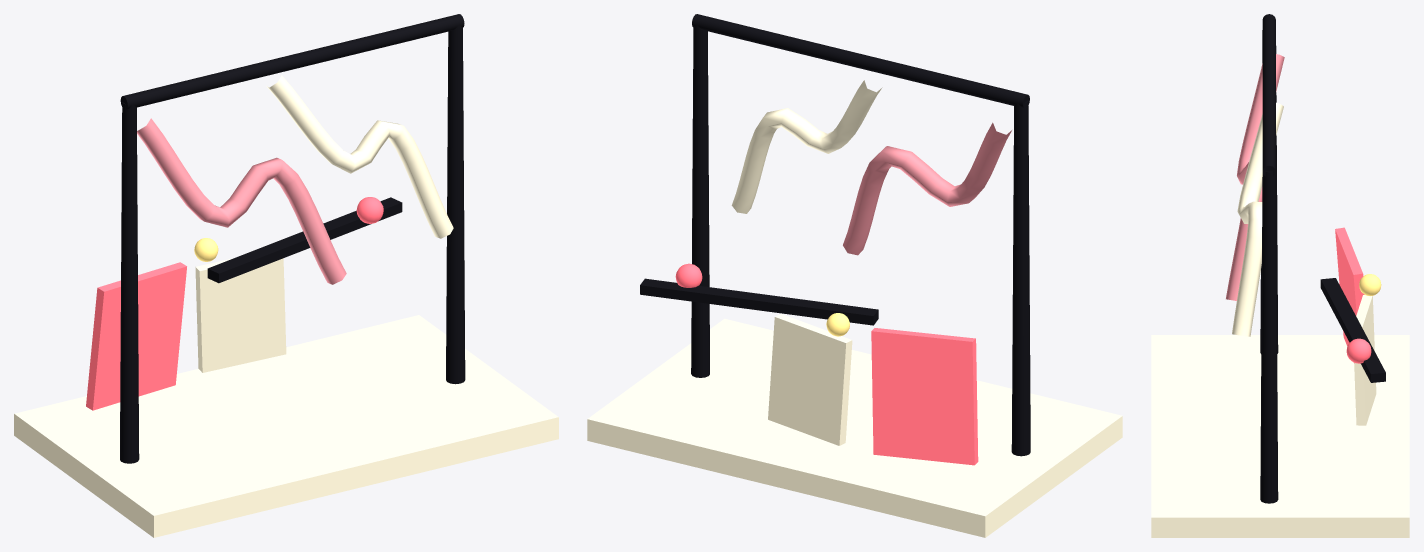
Rendered from atelier-drape-frame.glb.
The picture shows the model from 3 angles, left to right: view 1: azimuth 30°, elevation 25°; view 2: azimuth 150°, elevation 25°; view 3: azimuth 270°, elevation 25°; orthographic projection. The views are drawn at different scales.
Parts seen in each view (by area): view 1: tailor-platform, pattern-sheet-a, pattern-sheet-b, drape-coral-fold, frame-left-post, frame-right-post, drape-cream-fold, frame-top-rail, cutting-ruler; view 2: tailor-platform, pattern-sheet-a, pattern-sheet-b, frame-left-post, drape-coral-fold, frame-right-post, frame-top-rail, drape-cream-fold, cutting-ruler; view 3: tailor-platform, frame-right-post, drape-cream-fold, drape-coral-fold, frame-top-rail, cutting-ruler, pattern-sheet-b, pattern-sheet-a, frame-left-post, pin-coral, pin-warm.
Part boxes in pixels (x1,y1,x2,y2): tailor-platform: [14, 315, 558, 537]; pattern-sheet-a: [86, 262, 186, 410]; pattern-sheet-b: [195, 258, 286, 372]; drape-coral-fold: [137, 118, 346, 284]; frame-left-post: [120, 102, 139, 463]; frame-right-post: [446, 25, 465, 384]; drape-cream-fold: [266, 75, 453, 238]; frame-top-rail: [120, 14, 464, 109]; cutting-ruler: [207, 197, 402, 283]; tailor-platform: [587, 318, 1122, 537]; pattern-sheet-a: [871, 328, 978, 465]; pattern-sheet-b: [768, 314, 852, 445]; frame-left-post: [1011, 100, 1030, 456]; drape-coral-fold: [843, 122, 1011, 255]; frame-right-post: [691, 25, 709, 377]; frame-top-rail: [692, 14, 1029, 108]; drape-cream-fold: [731, 80, 882, 213]; cutting-ruler: [640, 278, 878, 325]; tailor-platform: [1151, 335, 1409, 537]; frame-right-post: [1260, 171, 1278, 503]; drape-cream-fold: [1232, 102, 1283, 336]; drape-coral-fold: [1226, 54, 1284, 300]; frame-top-rail: [1262, 14, 1275, 176]; cutting-ruler: [1320, 278, 1385, 382]; pattern-sheet-b: [1354, 295, 1376, 425]; pattern-sheet-a: [1335, 227, 1364, 363]; frame-left-post: [1260, 30, 1278, 353]; pin-coral: [1346, 338, 1371, 363]; pin-warm: [1359, 274, 1381, 296].
Bounding box in the file's own units: 1.54 × 1.4 × 0.92.
